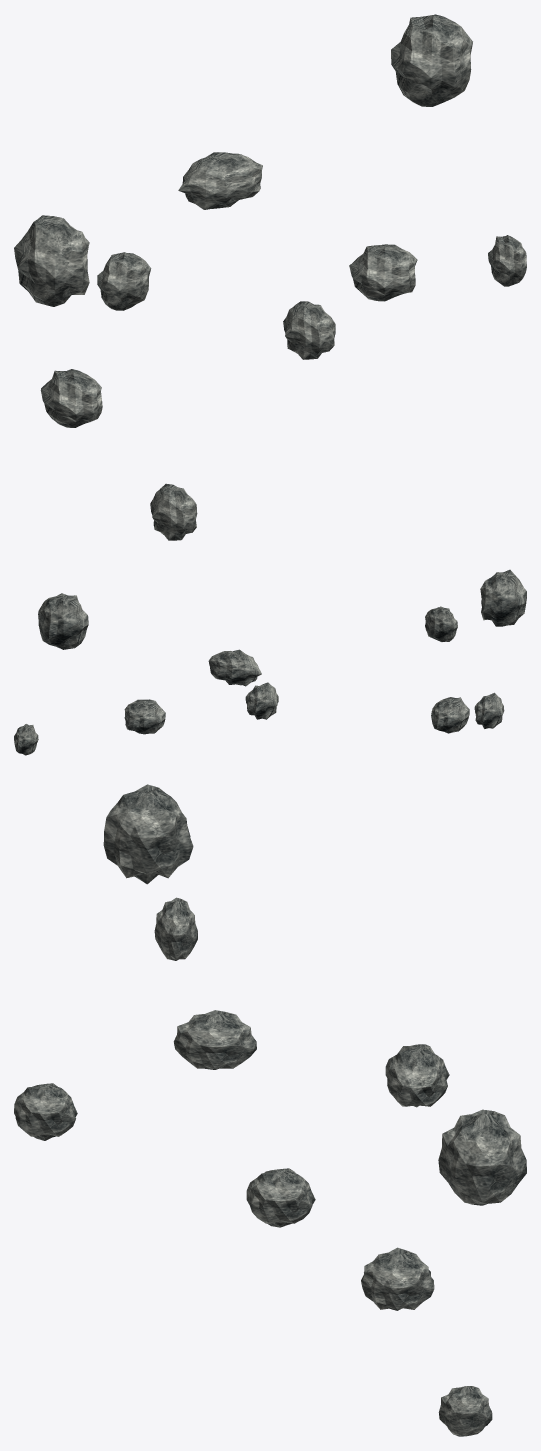
File: cluster_02.glb
The picture shows the model from 3 angles, top to bottom: view 1: azimuth 30°, elevation 25°; view 2: azimuth 150°, elevation 25°; view 3: azimuth 270°, elevation 25°; orthographic projection. The views are drawn at different scales.
Parts seen in each view (by area): view 1: cluster; view 2: cluster; view 3: cluster.
Boxes of the visible parts, x1,y1,x2,y2 form: cluster: (14,14,526,540); cluster: (14,569,526,755); cluster: (14,784,526,1436).
Bounding box in the file's own units: 3.77 × 1.78 × 2.45.
Materials: 1 (1 with a texture image).
